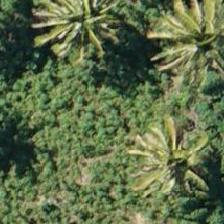coconut_tree: (130, 113, 220, 203), (155, 0, 223, 83), (37, 0, 127, 61)
